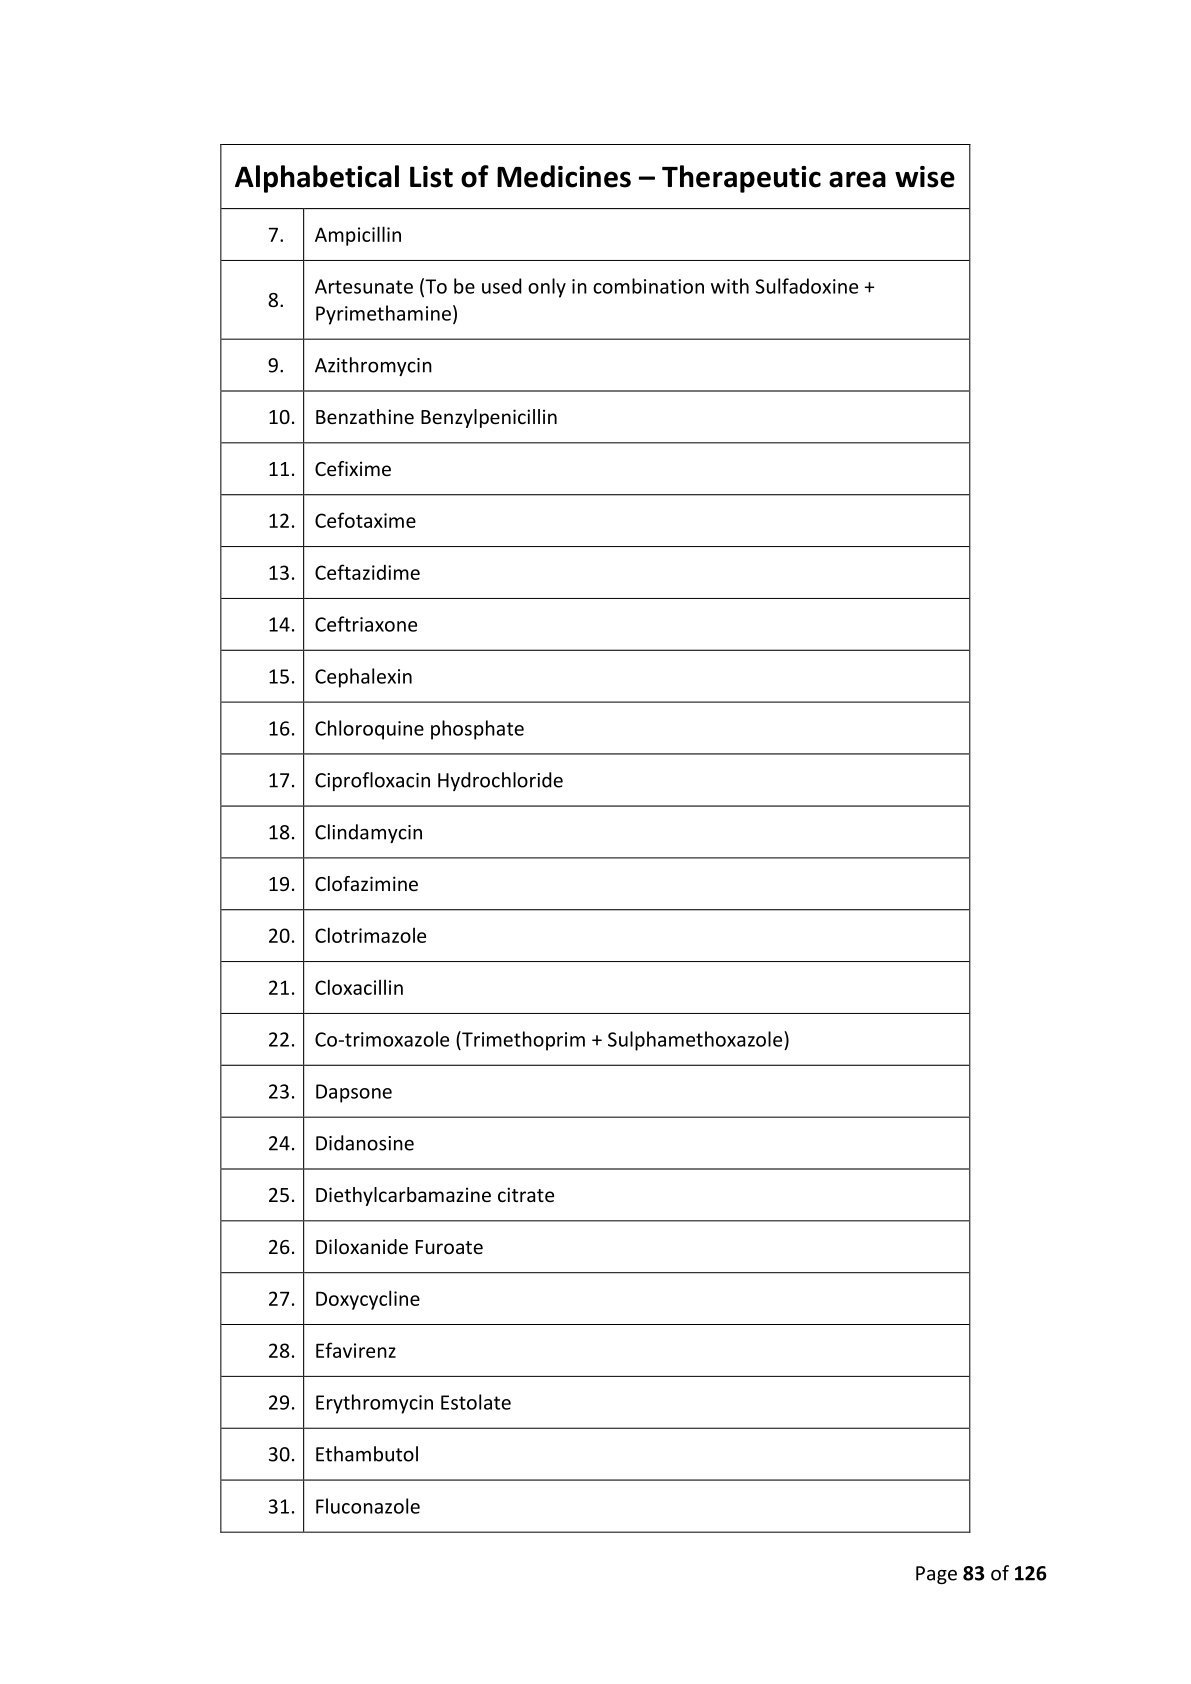merged_cells: (218, 140, 972, 1535)
